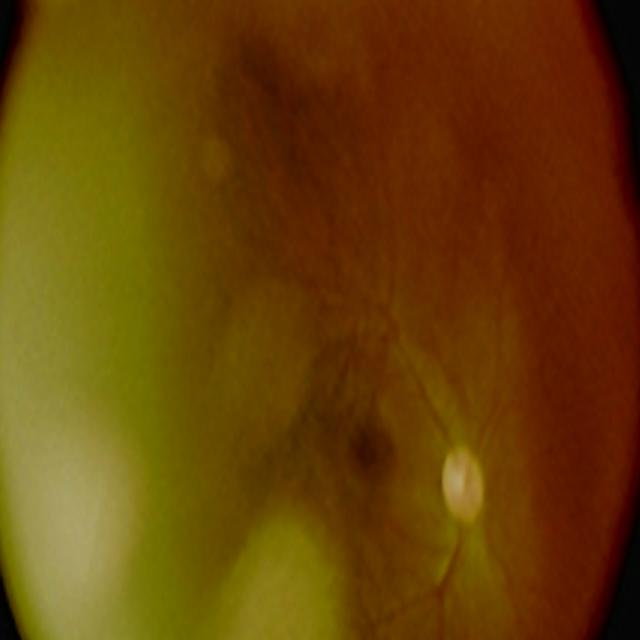optic-nerve: (412, 391, 516, 585)
